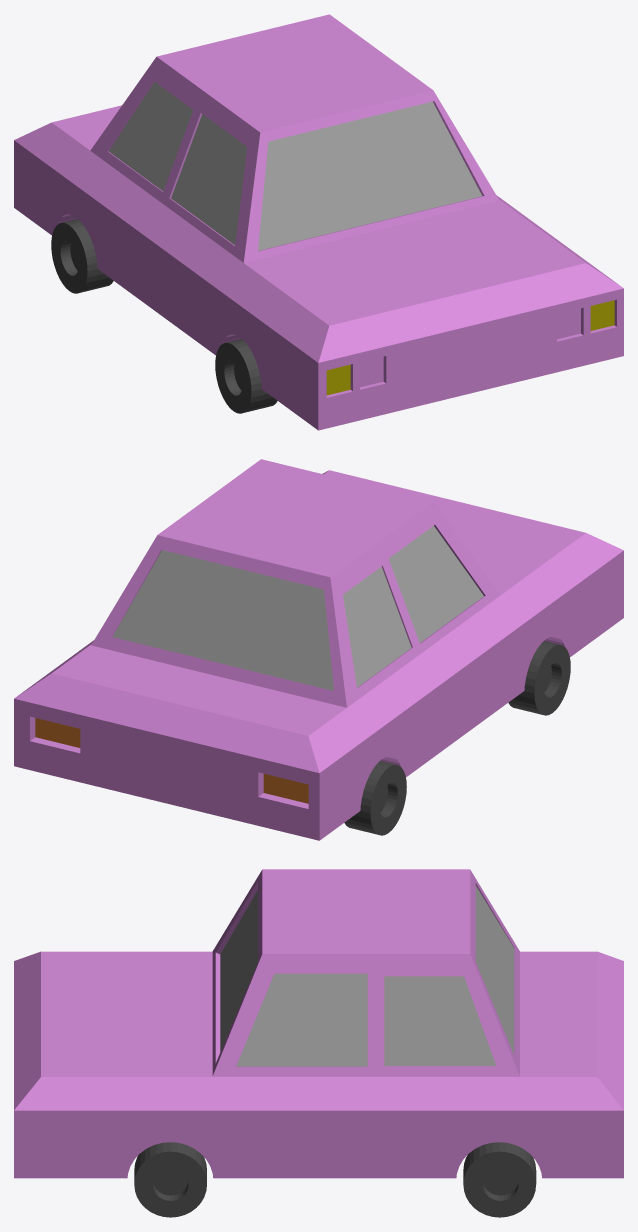
File: car2.fbx
3 renders of one model, top to bottom at view 1: azimuth 30°, elevation 25°; view 2: azimuth 150°, elevation 25°; view 3: azimuth 270°, elevation 25°, orthographic.
Parts seen in each view (by area): view 1: Cube, Cylinder.001; view 2: Cube, Cylinder.001; view 3: Cube, Cylinder.001.
Part boxes in pixels (x1,y1,x2,y2): Cube: (14, 14, 623, 430); Cylinder.001: (51, 219, 277, 413); Cube: (14, 459, 623, 840); Cylinder.001: (344, 641, 570, 835); Cube: (14, 869, 623, 1178); Cylinder.001: (134, 1142, 536, 1217).
Size of the model in its own units: 297 by 203 by 492.
